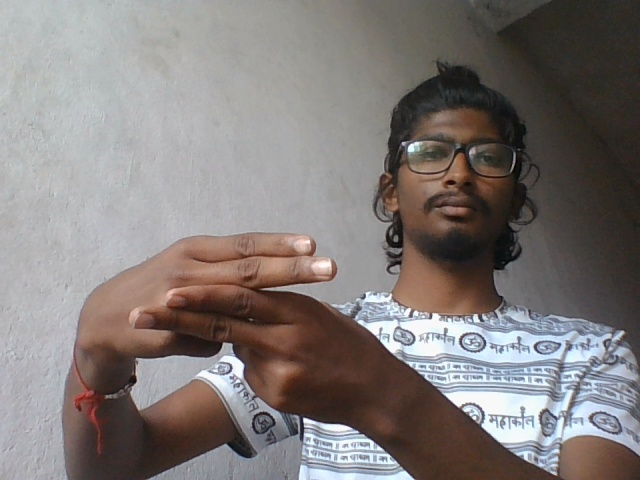Call: (61, 225, 417, 422)
